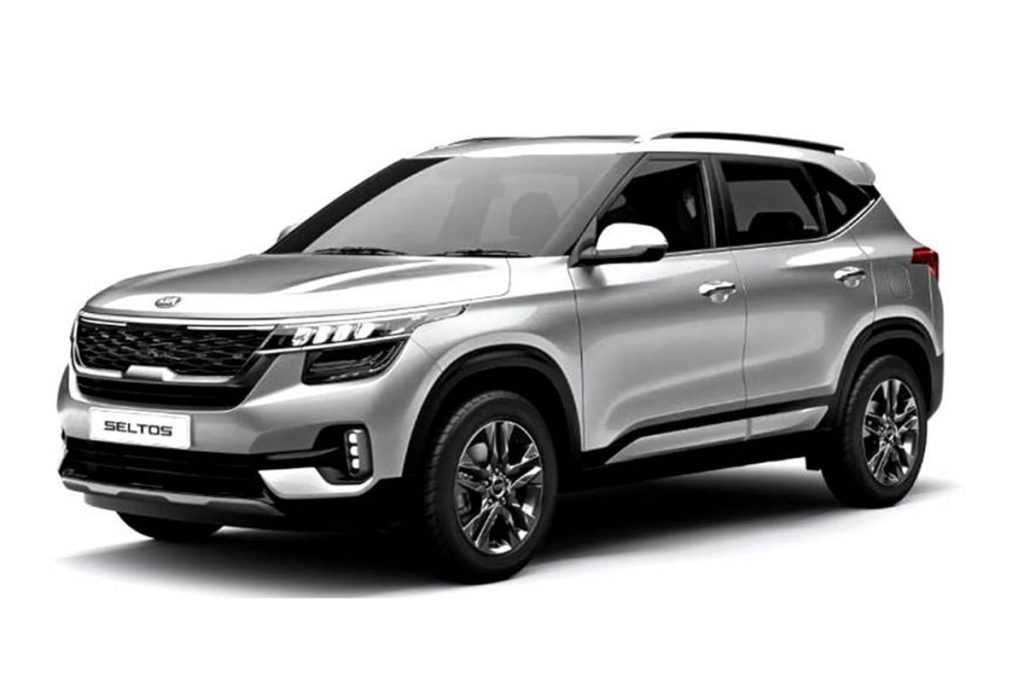car: (58, 130, 946, 587)
